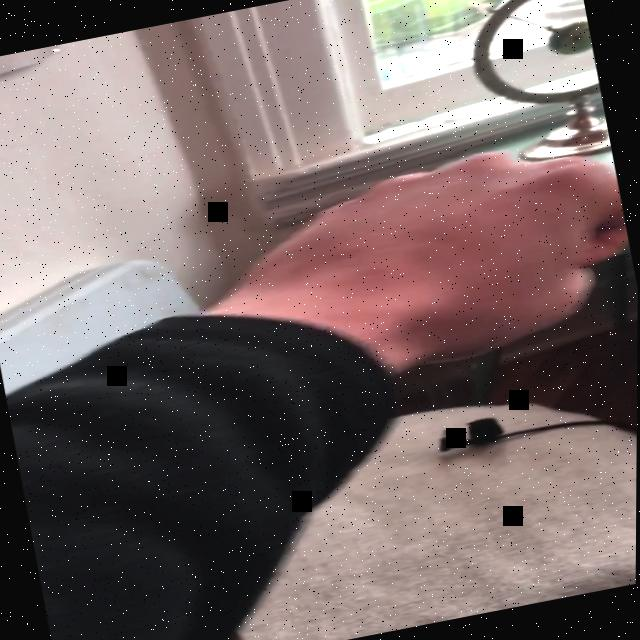Rock: (216, 125, 639, 397)
